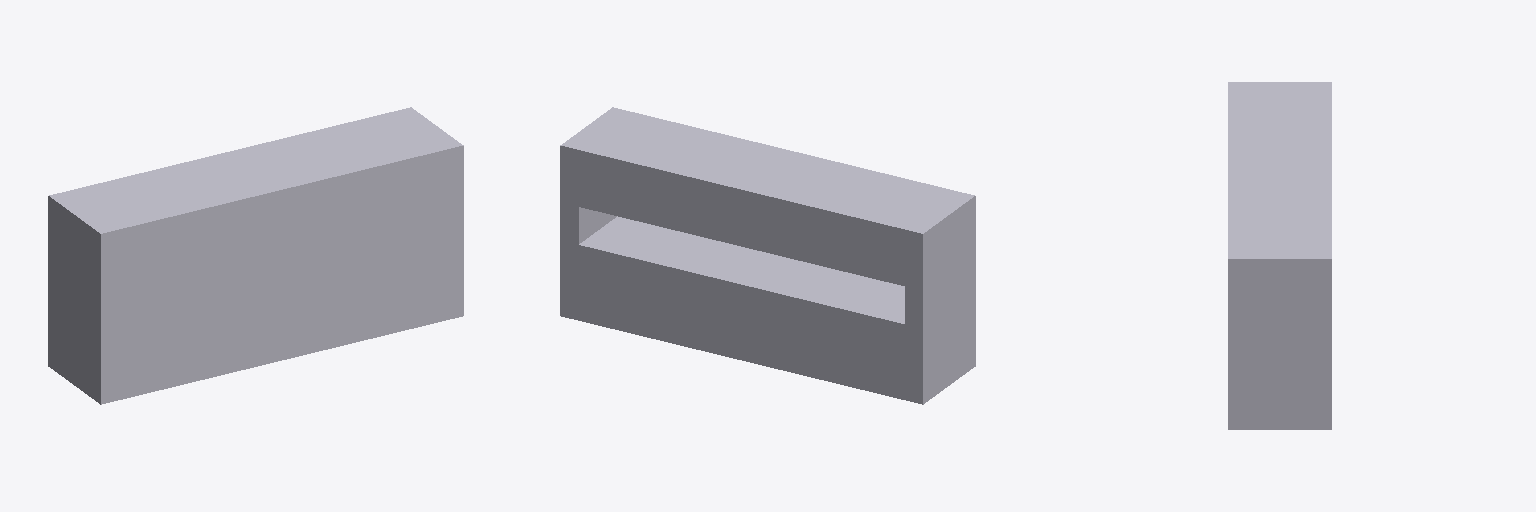
File: Counter.obj
3 views of the same model, side by side, from view 1: azimuth 30°, elevation 25°; view 2: azimuth 150°, elevation 25°; view 3: azimuth 270°, elevation 25° (orthographic).
Bounding box in the file's own units: 4 × 1.8 × 1.